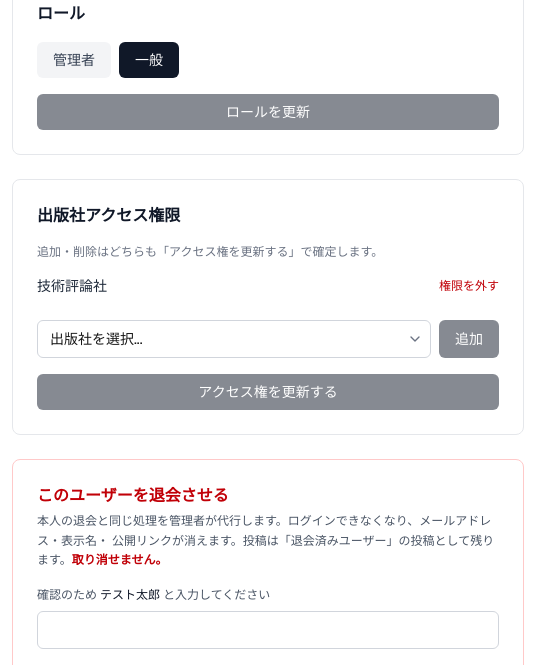
AdminUserEditor › 代行退会 › 表示名を正しく入力するまでボタンを押せない（押し間違いの砦）
// 1文字足りない状態ではまだ押せない
Type "テスト太" into the field labelled "確認のため テスト太郎 と入力してください" at (268, 630), box top-left (37, 610), bottom-right (499, 648)
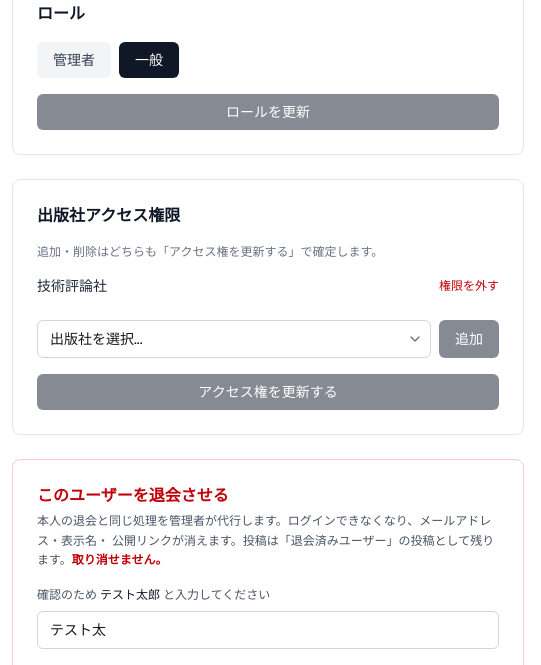
Replace the text in the field labelled "確認のため テスト太郎 と入力してください" with "テスト太郎" at (268, 630), box top-left (37, 610), bottom-right (499, 648)
(page scrolled)
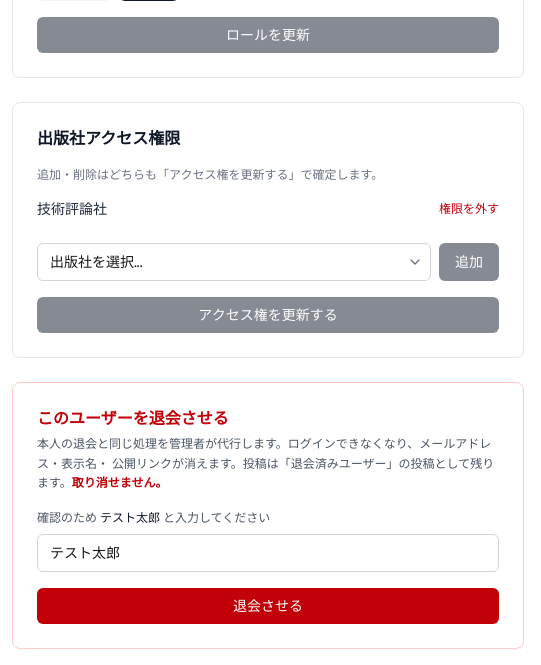
Expected: the button "退会させる" is enabled, top-left (37, 588), bottom-right (499, 624)
